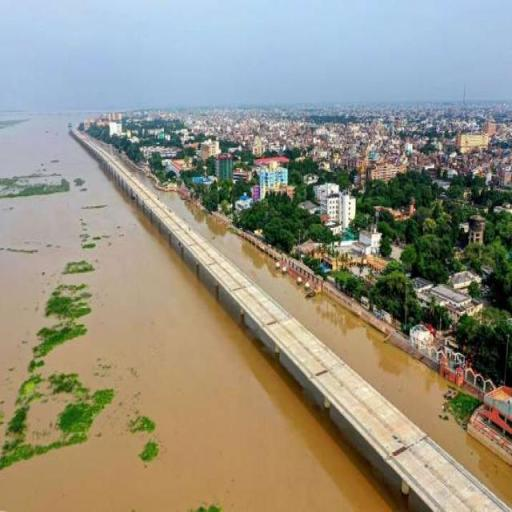flood: (0, 119, 402, 512), (136, 174, 512, 503)
house: (426, 282, 484, 317), (483, 380, 511, 436), (210, 151, 239, 185), (322, 191, 348, 228), (257, 164, 292, 187), (458, 134, 491, 152), (358, 230, 380, 248), (169, 159, 185, 173)
